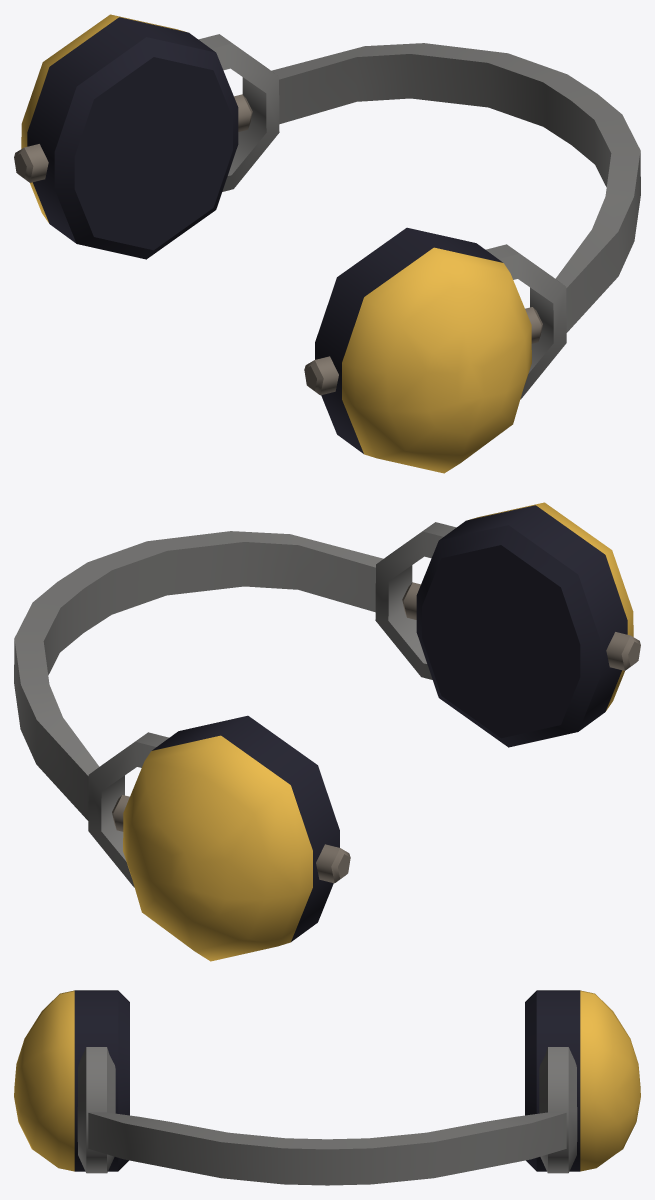
Rendered from EarMuffs_Helmet_1.glb.
3 views of the same model, one above another, from view 1: azimuth 30°, elevation 25°; view 2: azimuth 150°, elevation 25°; view 3: azimuth 270°, elevation 25° (orthographic). The views are drawn at different scales.
Parts seen in each view (by area): view 1: EarMuffs_Helmet_1; view 2: EarMuffs_Helmet_1; view 3: EarMuffs_Helmet_1.
Part boxes in pixels (x1,y1,x2,y2): EarMuffs_Helmet_1: (14,14,640,473); EarMuffs_Helmet_1: (14,502,640,961); EarMuffs_Helmet_1: (14,990,640,1185).
Size of the model in its own units: 0.4417 by 0.2172 by 0.6905.
Materials: 1 (1 with a texture image).
